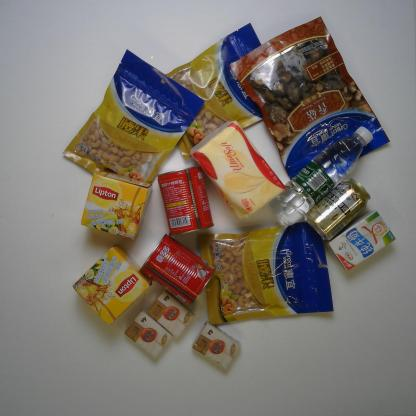Alcohol: (305, 176, 372, 242)
Canned Food: (139, 233, 216, 308), (158, 165, 215, 236)
Dried Food: (229, 13, 391, 186)
Dried Fruit: (60, 49, 206, 195), (162, 21, 278, 162), (198, 220, 334, 326)
Drink: (268, 125, 374, 228)
Instant Drink: (72, 244, 151, 326), (80, 169, 152, 241)
Milk: (326, 209, 396, 272)
Tissue: (188, 119, 287, 224), (124, 309, 173, 360), (193, 321, 242, 371), (146, 290, 194, 340)
